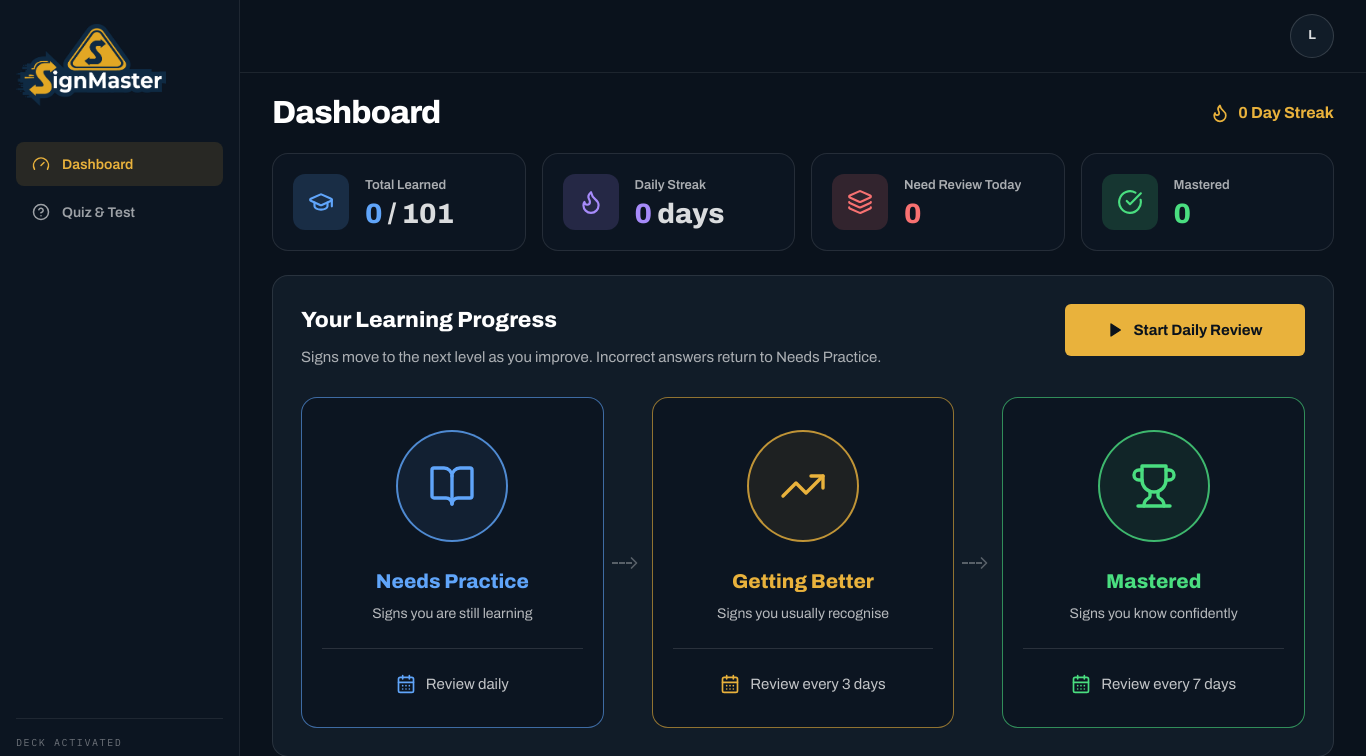
Test: DashboardScreen › offers a way to sign out
The width and height of the screenshot is (1366, 756).
What coordinates should you click on to do the following:
click the button with test id "account-menu-trigger"
I would click on:
 (1312, 36)
Its box is [1290,14,1334,58].
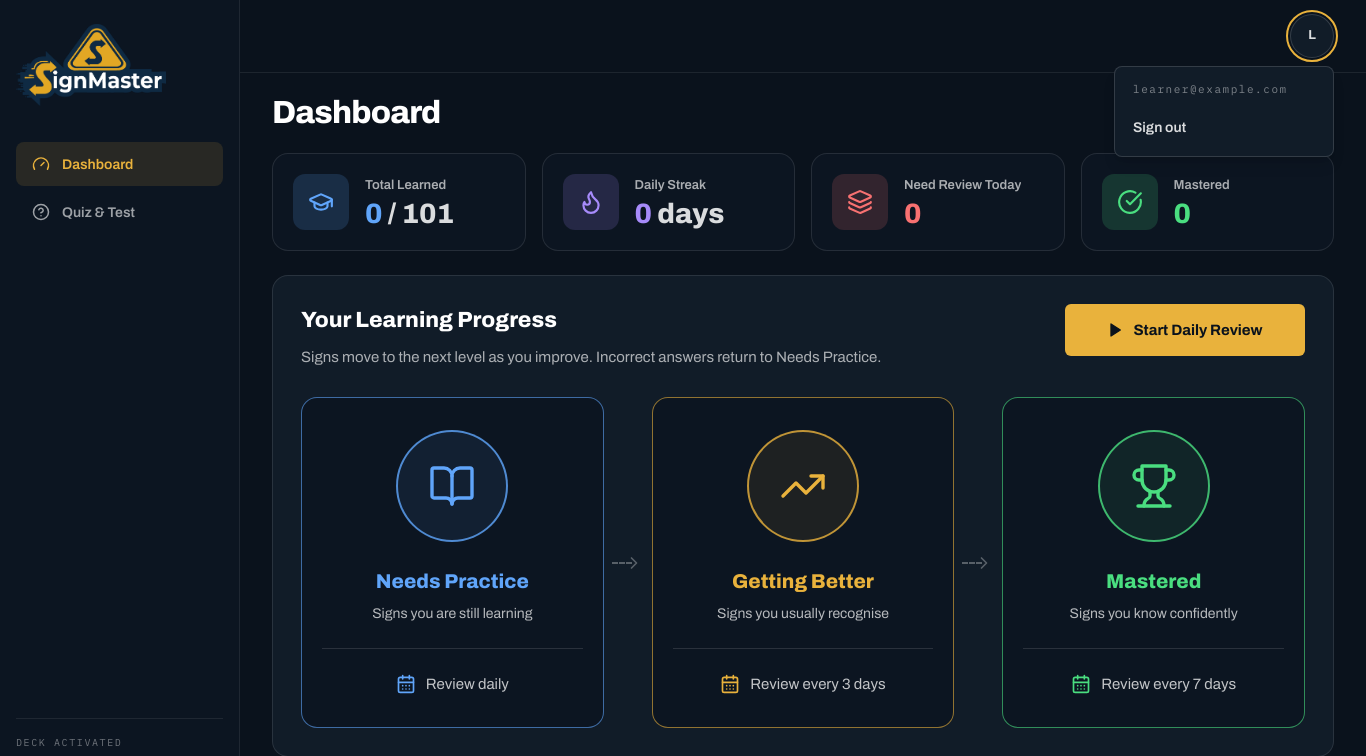
Result: the menu item "Sign out" is shown at [1121,106,1327,150]
